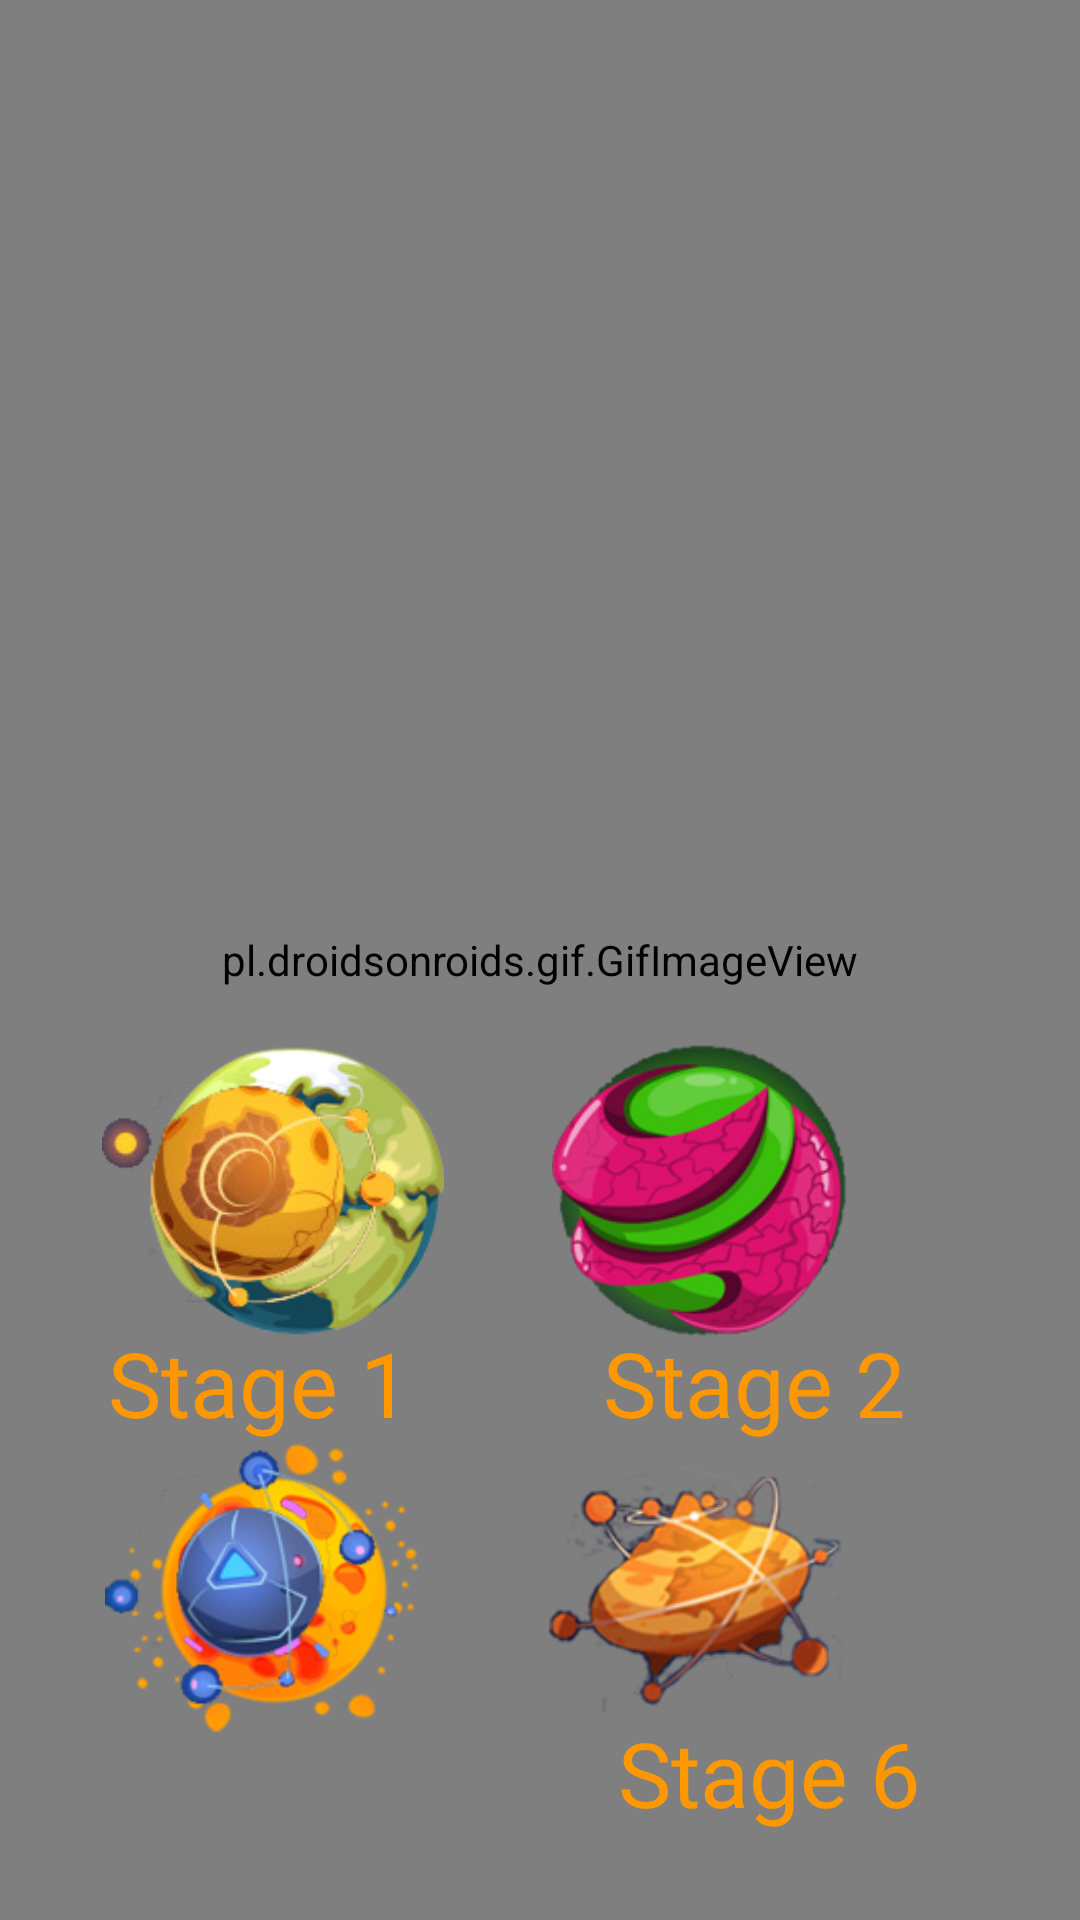

Point at icon controls on the screen. Image size 1080px×1920px, points as (x=x, y=y).
planet: (x=699, y=1190)
